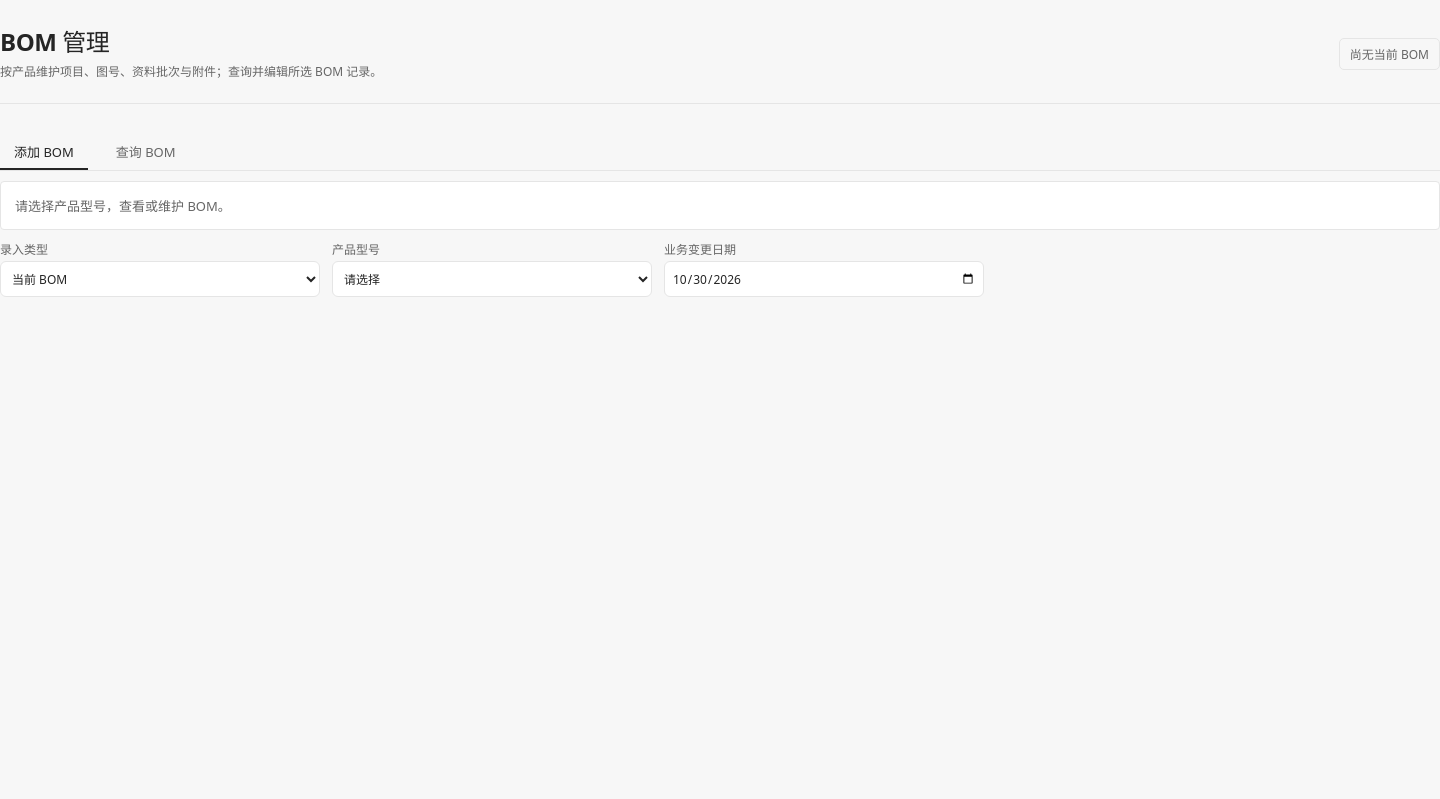
Test: BomPage product-level BOM › shows query details as separate business fields and keeps model-wide deletion collapsed
Click the button "查询 BOM" at coordinates (146, 152), box [102,134,190,170]
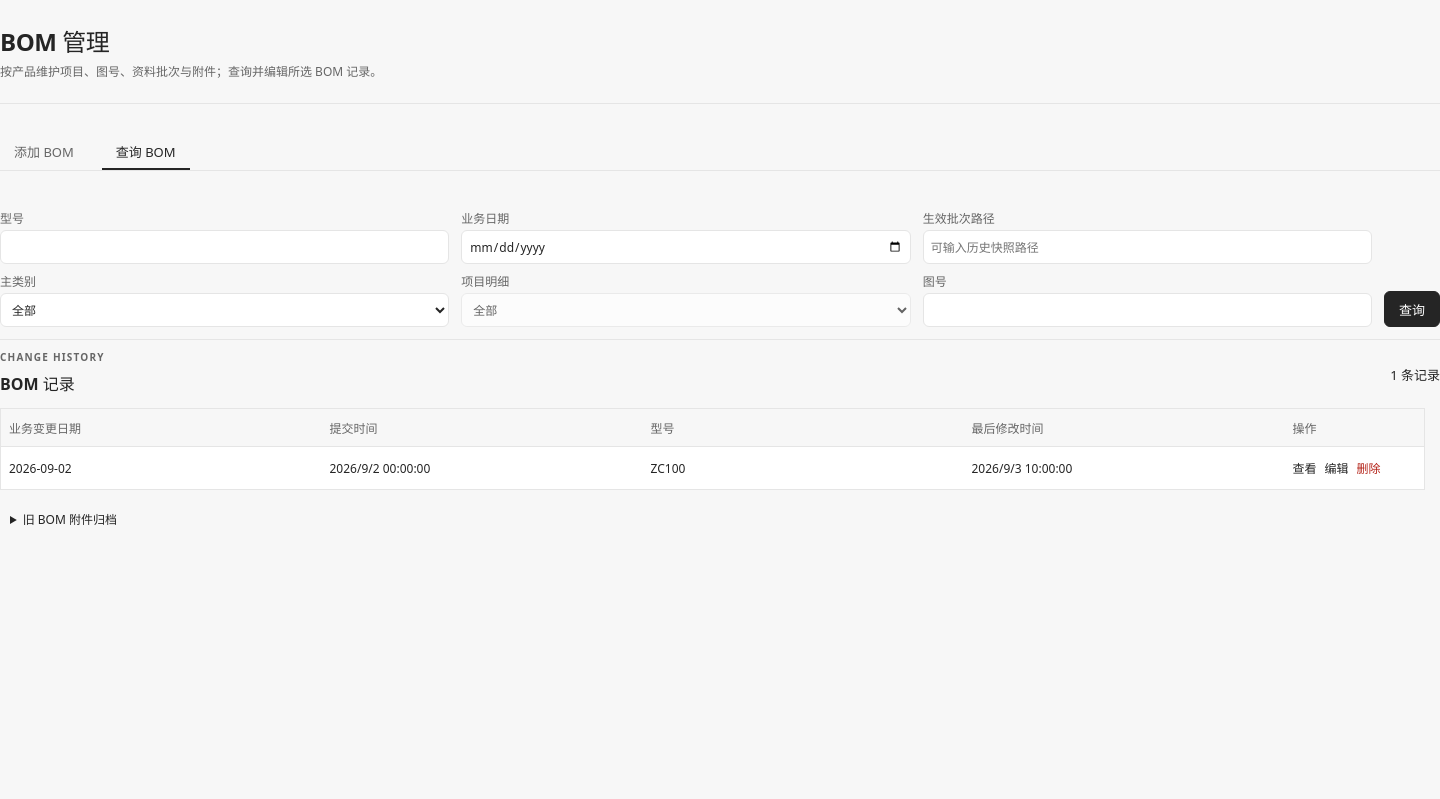
Click the button with aria-label "查看 BOM 20" at coordinates (1304, 468), box [1292,454,1316,482]
(page scrolled)
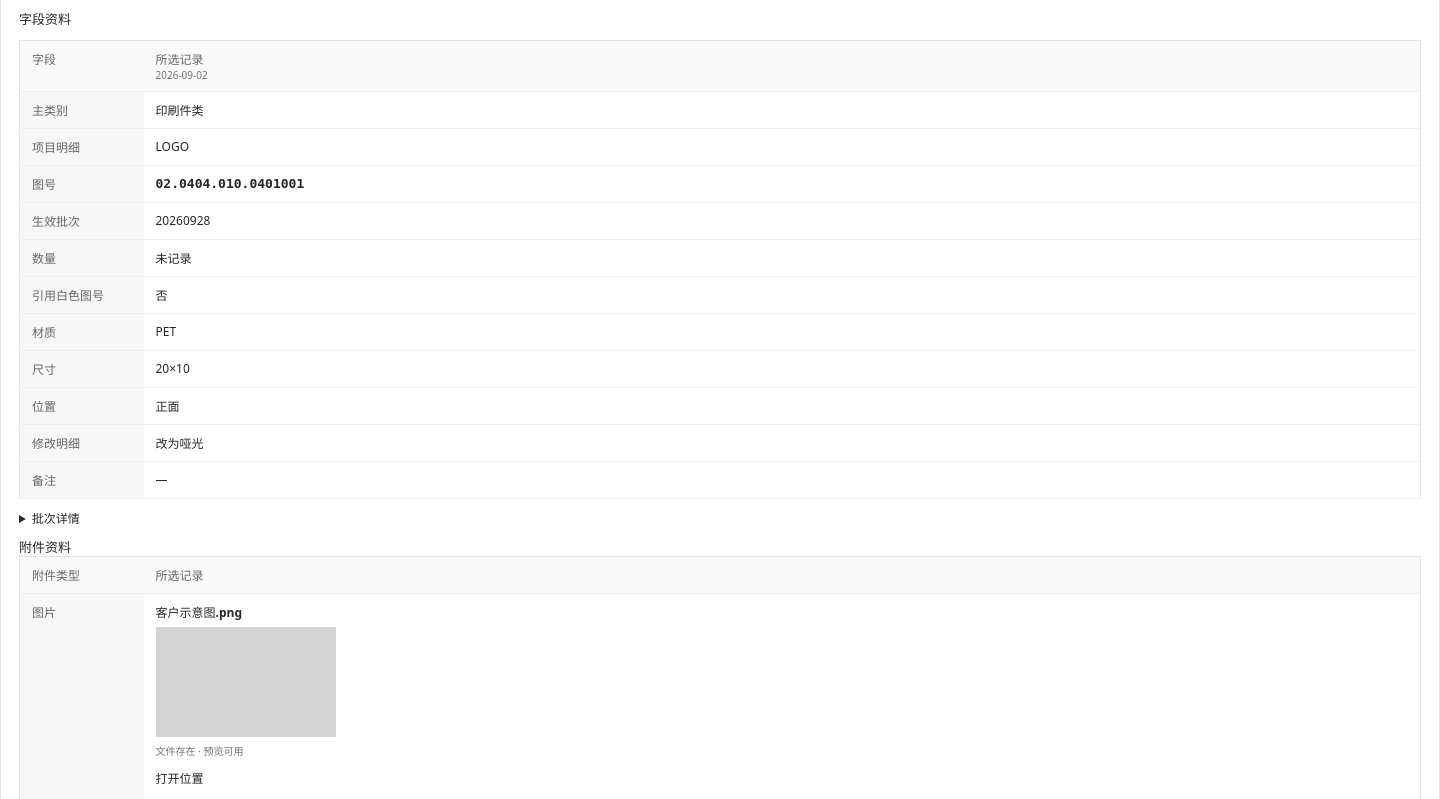
Result: the text "改为哑光" is shown at [144,424,1420,461]
Result: the text "PET" is shown at [144,313,1420,350]
Result: the row "生效批次" shows "20260928" at [156,212,210,229]
